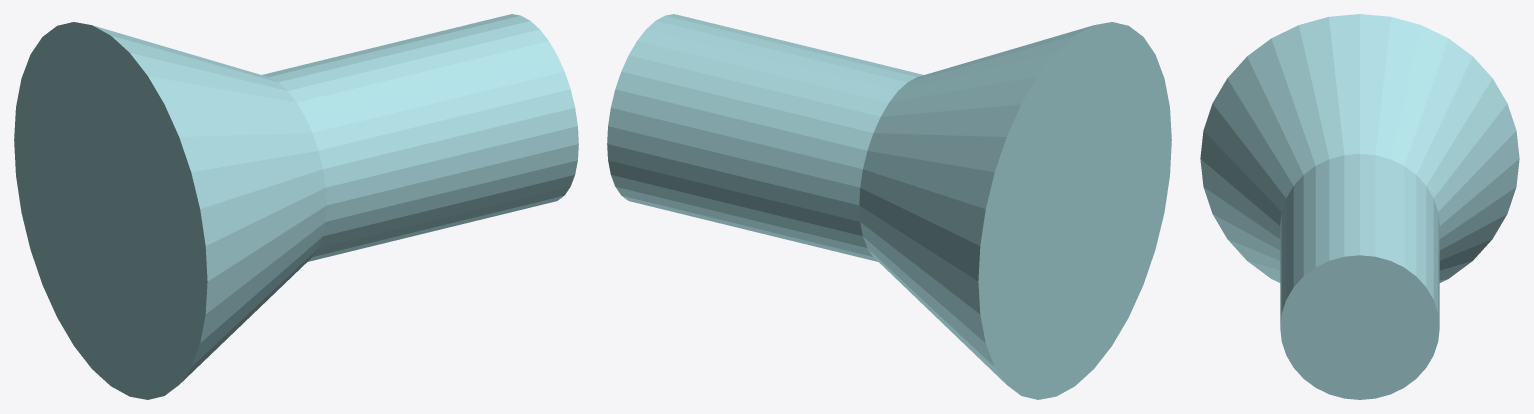
The model's file is tripod.gltf.
3 renders of one model, left to right at view 1: azimuth 30°, elevation 25°; view 2: azimuth 150°, elevation 25°; view 3: azimuth 270°, elevation 25°, orthographic. The views are drawn at different scales.
Visible parts, largest first — view 1: Cone; view 2: Cone; view 3: Cone.
Boxes of the visible parts, bbox=[...] form: Cone: bbox=[14, 14, 578, 399]; Cone: bbox=[607, 14, 1171, 399]; Cone: bbox=[1200, 14, 1519, 399].
Bounding box in the file's own units: 1.25 × 1 × 1.
